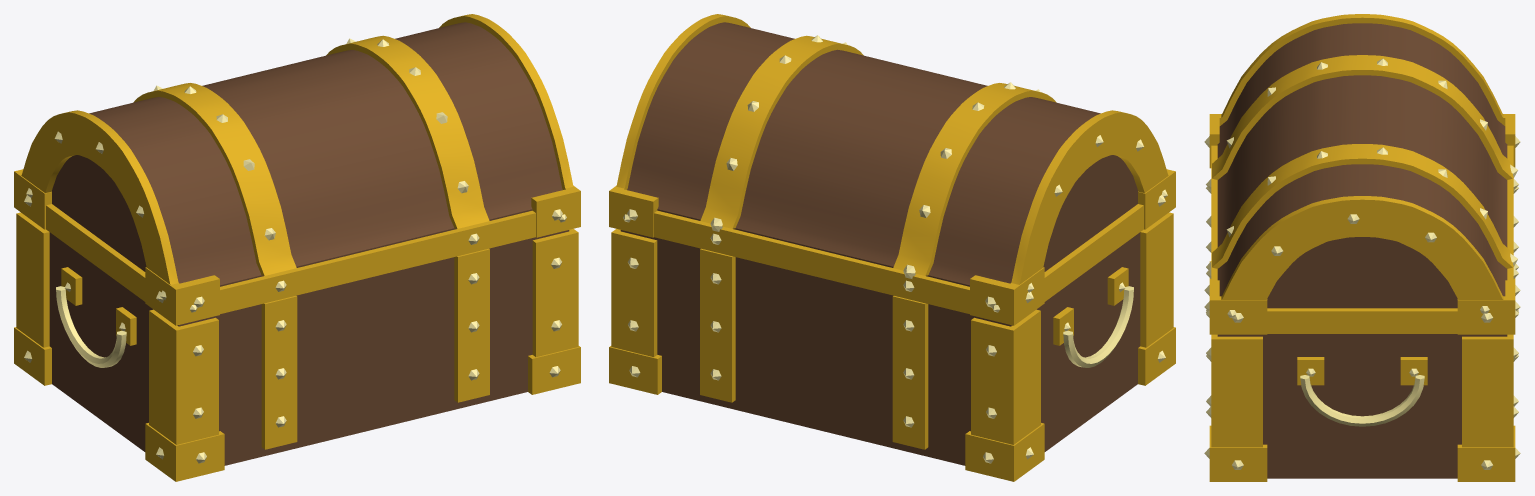
The picture shows the model from 3 angles, left to right: view 1: azimuth 30°, elevation 25°; view 2: azimuth 150°, elevation 25°; view 3: azimuth 270°, elevation 25°; orthographic projection. The views are drawn at different scales.
Parts seen in each view (by area): view 1: movable, fixed; view 2: movable, fixed; view 3: movable, fixed.
Part boxes in pixels (x1=…): movable: x1=14, y1=14, x2=580, y2=325; fixed: x1=14, y1=212, x2=580, y2=481; movable: x1=609, y1=14, x2=1175, y2=325; fixed: x1=609, y1=212, x2=1175, y2=481; movable: x1=1204, y1=14, x2=1520, y2=334; fixed: x1=1204, y1=186, x2=1520, y2=481.
Bounding box in the file's own units: 0.5 × 0.3427 × 0.3439.
Materials: 1 (1 with a texture image).
